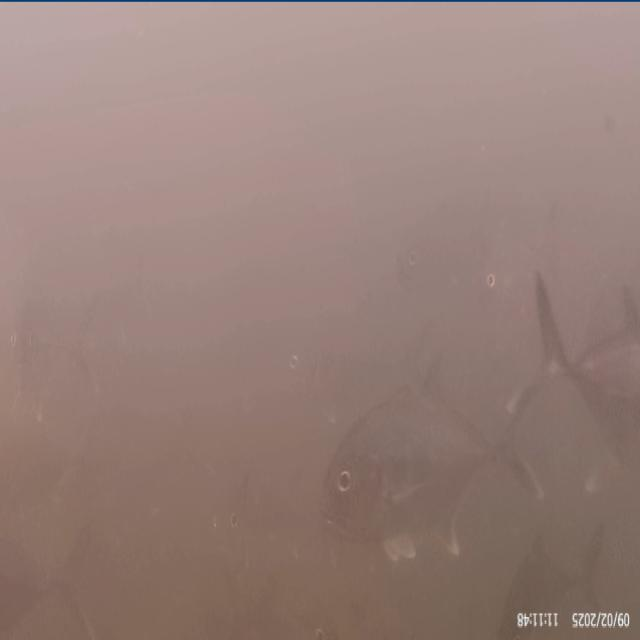ikan: (319, 376, 544, 562), (505, 266, 638, 473)
